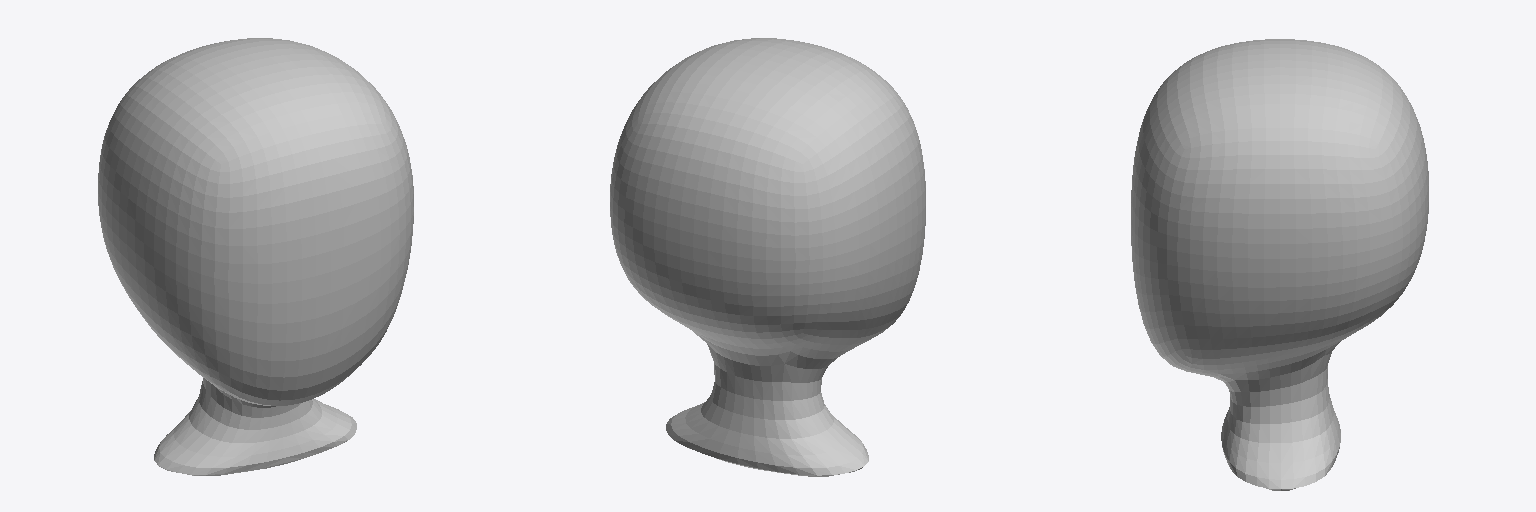
Rendered from basehead.obj.
The picture shows the model from 3 angles: view 1: azimuth 30°, elevation 25°; view 2: azimuth 150°, elevation 25°; view 3: azimuth 270°, elevation 25°; orthographic projection.
Parts seen in each view (by area): view 1: Cube; view 2: Cube; view 3: Cube.
Boxes of the visible parts, x1,y1,x2,y2 form: Cube: [98, 38, 413, 475]; Cube: [610, 38, 925, 476]; Cube: [1131, 39, 1428, 490].
Bounding box in the file's own units: 3.01 × 4.35 × 3.01.